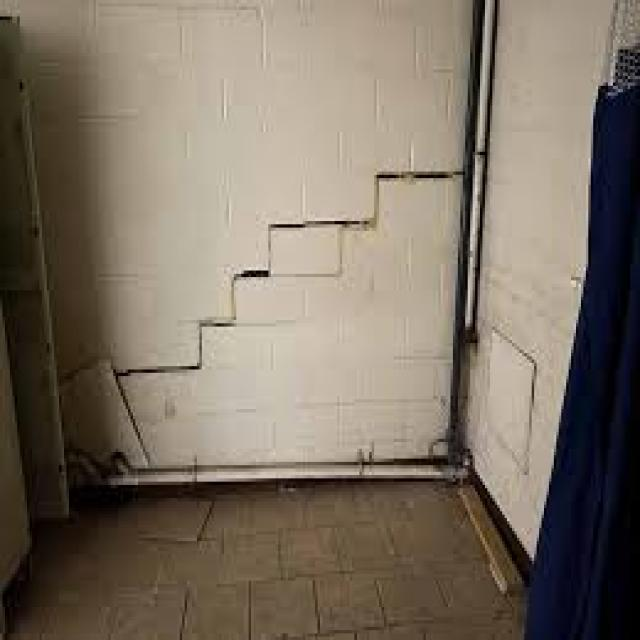Crack: (111, 162, 463, 465)
